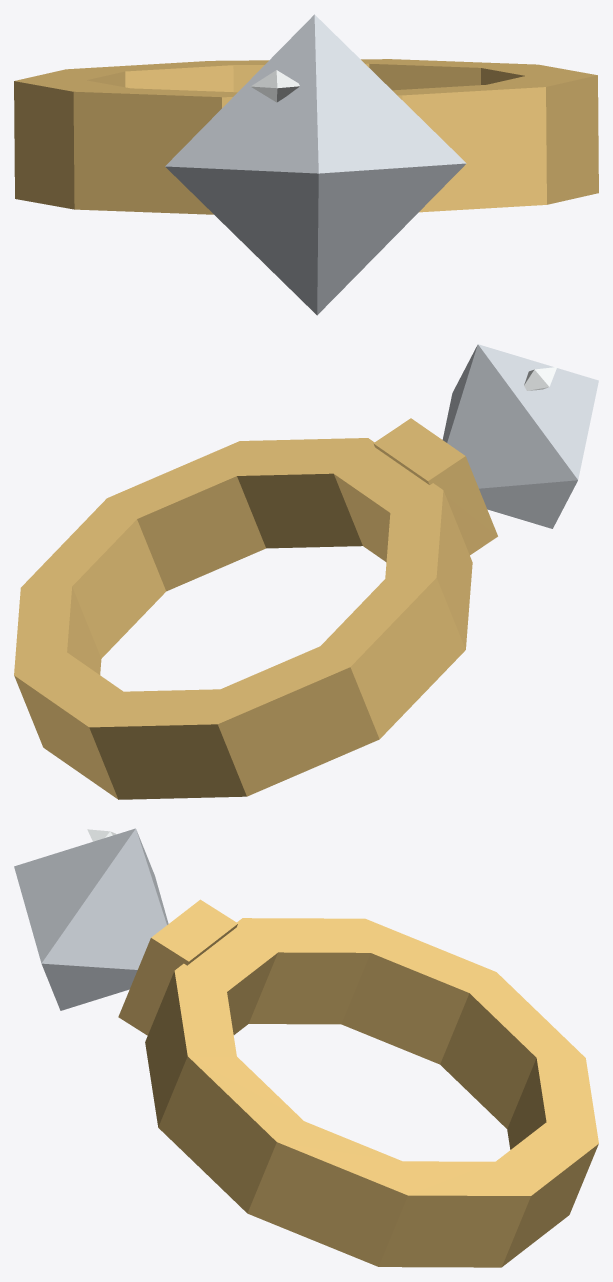
The model's file is Ring.obj.
3 renders of one model, top to bottom at view 1: azimuth 30°, elevation 25°; view 2: azimuth 150°, elevation 25°; view 3: azimuth 270°, elevation 25°, orthographic. The views are drawn at different scales.
Bounding box in the file's own units: 1.88 × 1.37 × 2.27.
